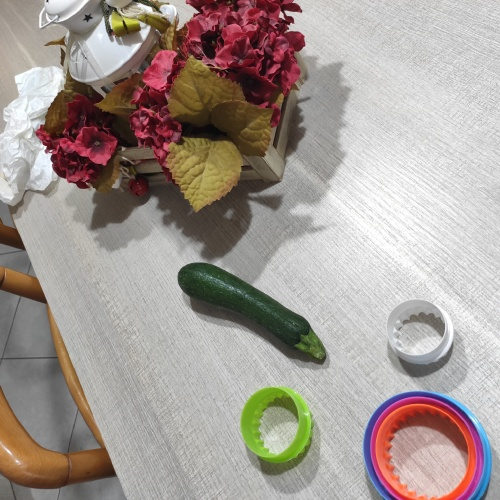zucchine: (177, 253, 333, 359)
